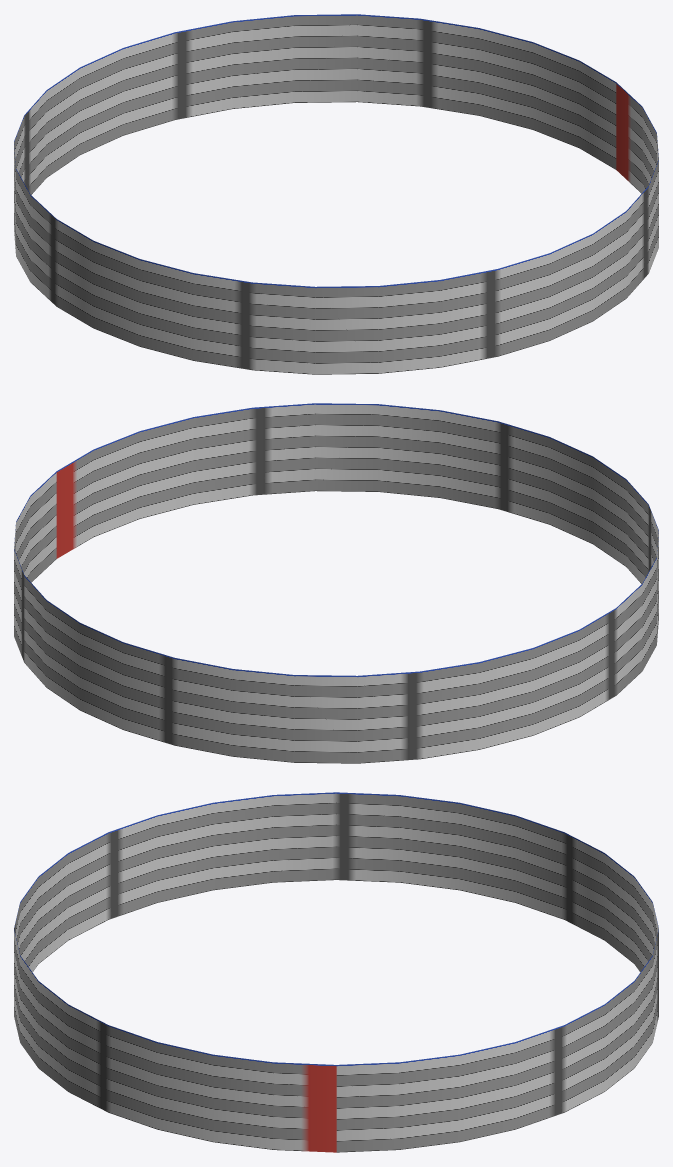
File: inward-ring.glb
The picture shows the model from 3 angles, top to bottom: view 1: azimuth 30°, elevation 25°; view 2: azimuth 150°, elevation 25°; view 3: azimuth 270°, elevation 25°; orthographic projection.
Parts seen in each view (by area): view 1: inward-ring; view 2: inward-ring; view 3: inward-ring.
Boxes of the visible parts, <box> form: inward-ring: <box>14,14,658,374</box>; inward-ring: <box>14,403,658,763</box>; inward-ring: <box>14,792,658,1152</box>.
Bounding box in the file's own units: 2 × 0.3 × 2.
1 material, 1 textured.
